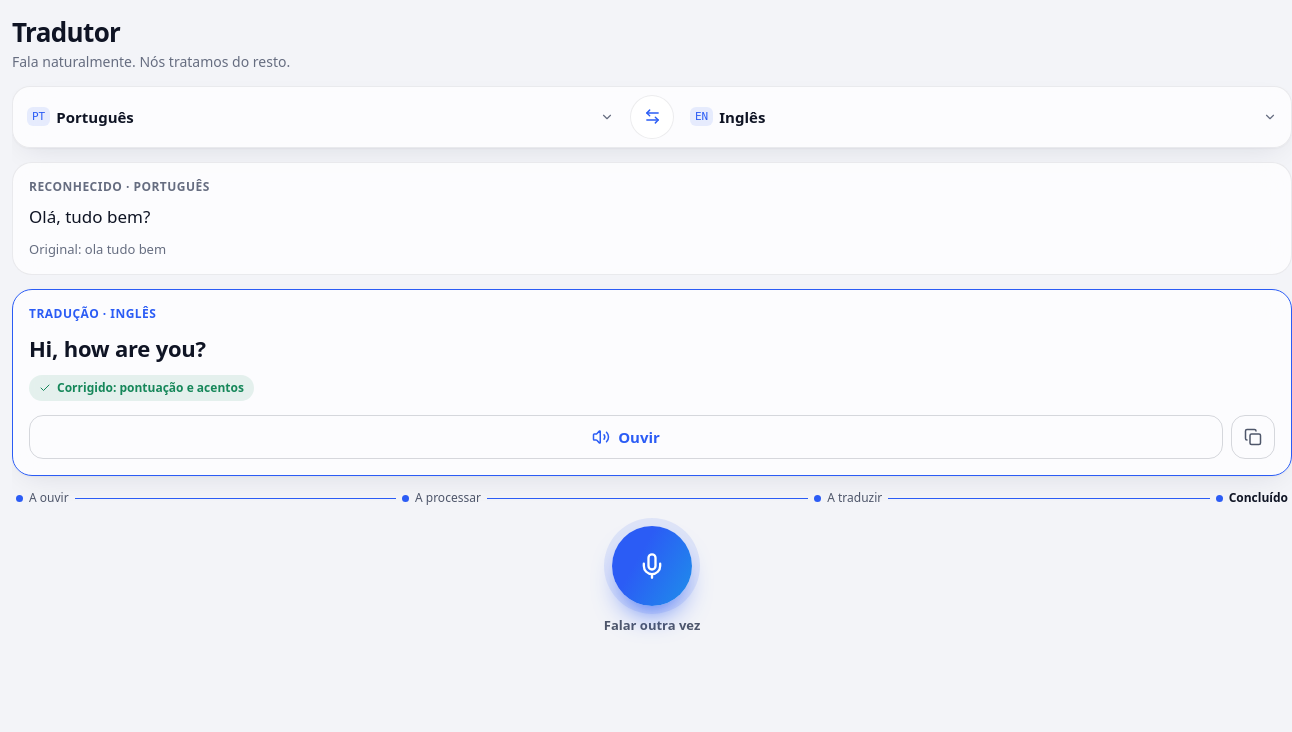
Test: TranslatePage — result › copies the translation and confirms with a toast (or explains the failure)
The width and height of the screenshot is (1292, 732).
Click the button named "Copiar tradução". click: [1253, 437]
box: [1231, 415, 1275, 459]
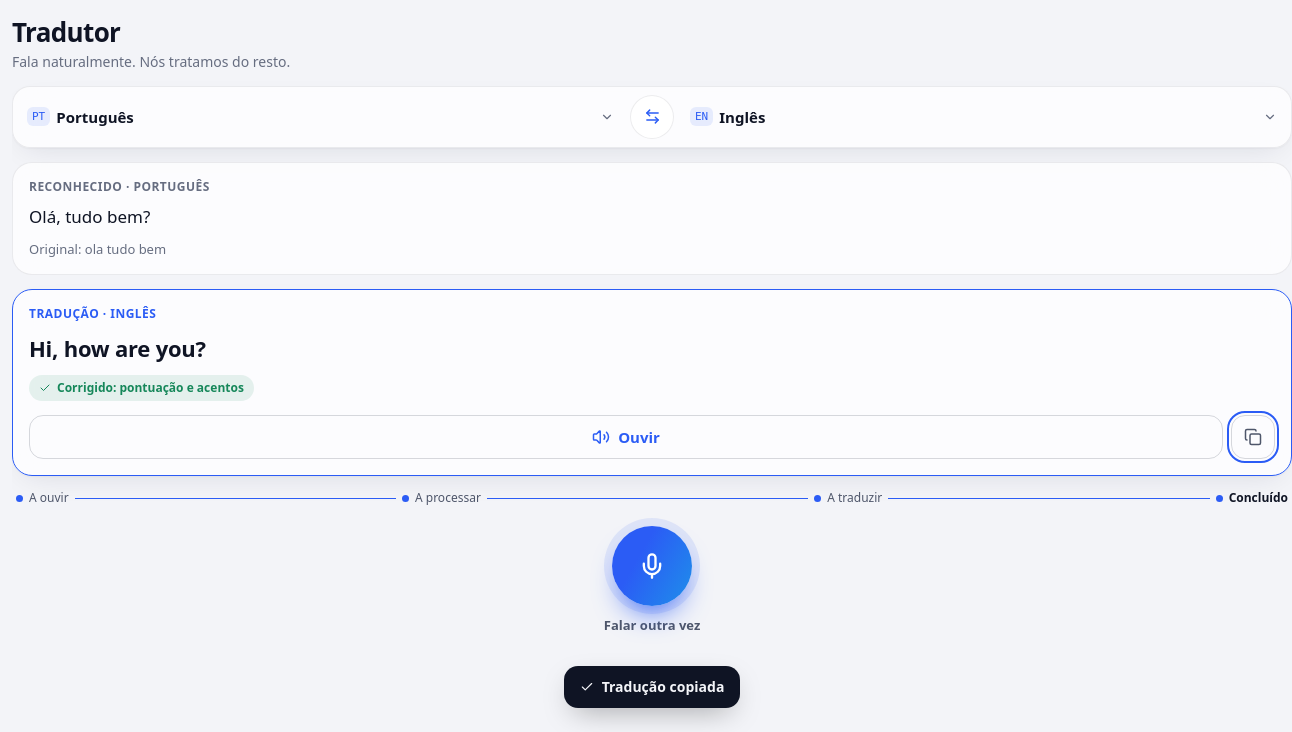
Now the text "Tradução copiada" is shown, box [602, 677, 724, 697]
Click the button named "Copiar tradução". click: [1253, 437]
box: [1231, 415, 1275, 459]
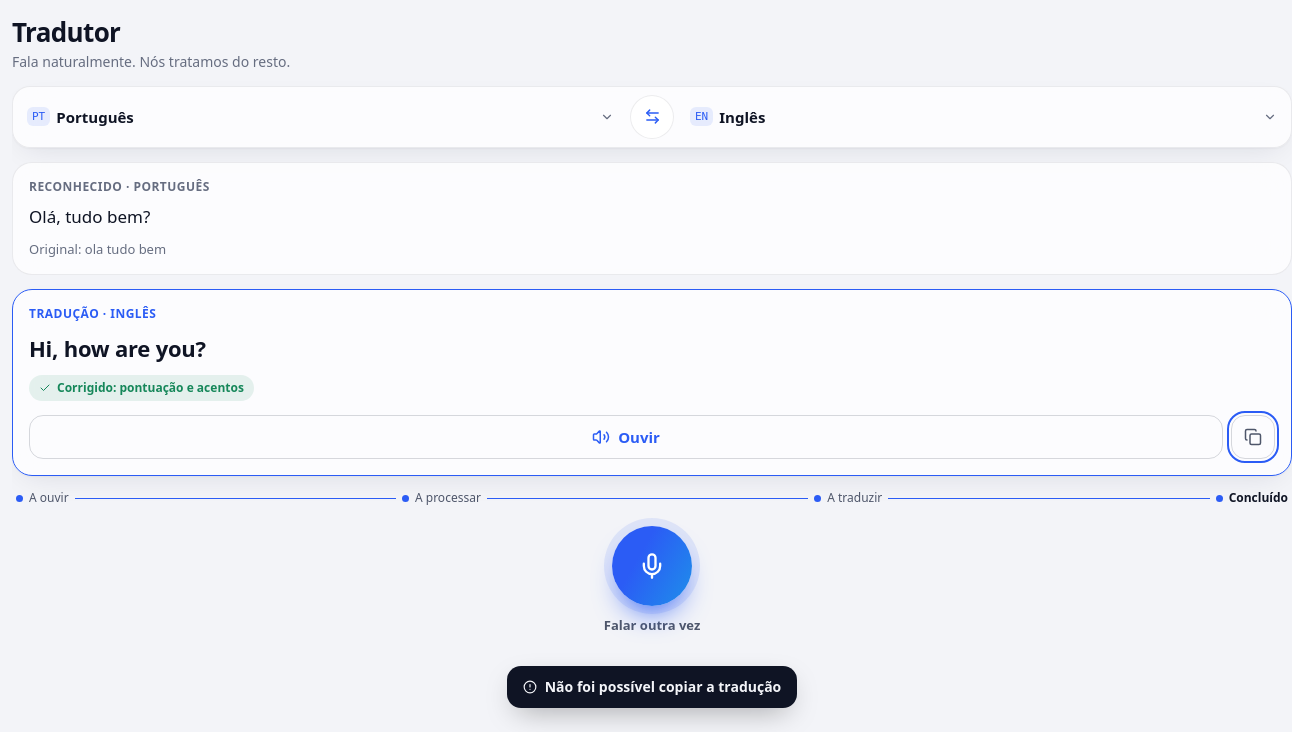
Now the text "Não foi possível copiar a tradução" is shown, box [545, 677, 781, 697]
